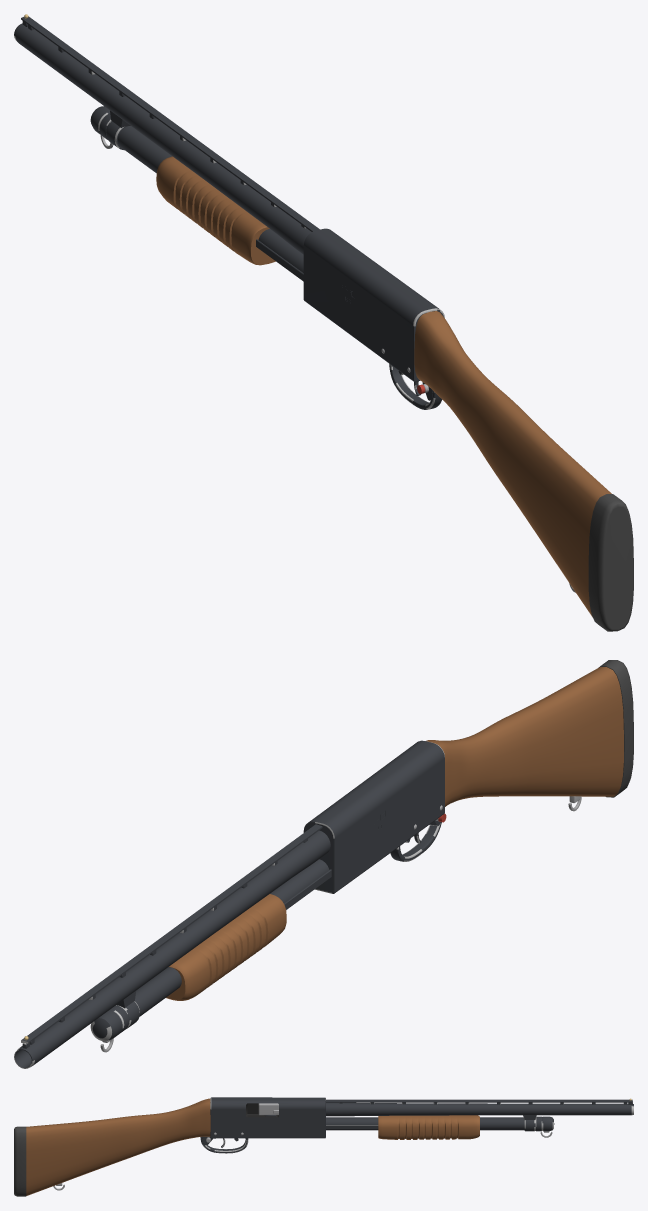
3 renders of one model, top to bottom at view 1: azimuth 30°, elevation 25°; view 2: azimuth 150°, elevation 25°; view 3: azimuth 270°, elevation 25°, orthographic. The views are drawn at different scales.
Visible parts, largest first — view 1: static_butt, static_barrel, static, bolt; view 2: static_butt, static_barrel, static, bolt; view 3: static_butt, static_barrel, static, bolt.
Part boxes in pixels (x1,y1,x2,y2): static_butt: (414, 311, 633, 631); static_barrel: (14, 14, 319, 272); static: (303, 228, 444, 409); bolt: (156, 156, 303, 281); static_butt: (426, 660, 633, 811); static_barrel: (14, 824, 330, 1068); static: (303, 740, 444, 893); bolt: (166, 869, 331, 1000); static_butt: (14, 1098, 210, 1196); static_barrel: (326, 1098, 633, 1137); static: (200, 1097, 325, 1153); bolt: (258, 1103, 479, 1139).
Bounding box in the file's own units: 0.0408 × 0.1941 × 1.13.
